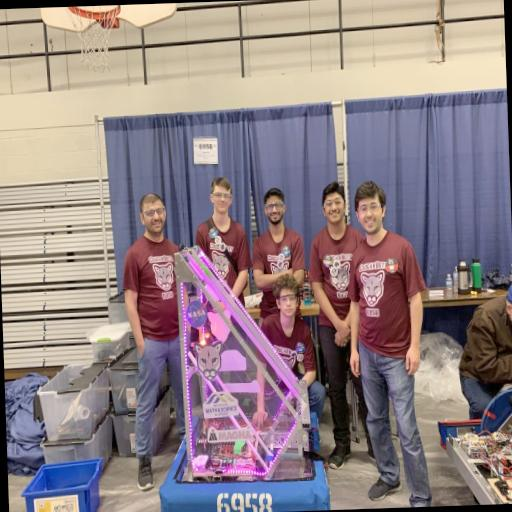robot: (150, 239, 332, 512)
